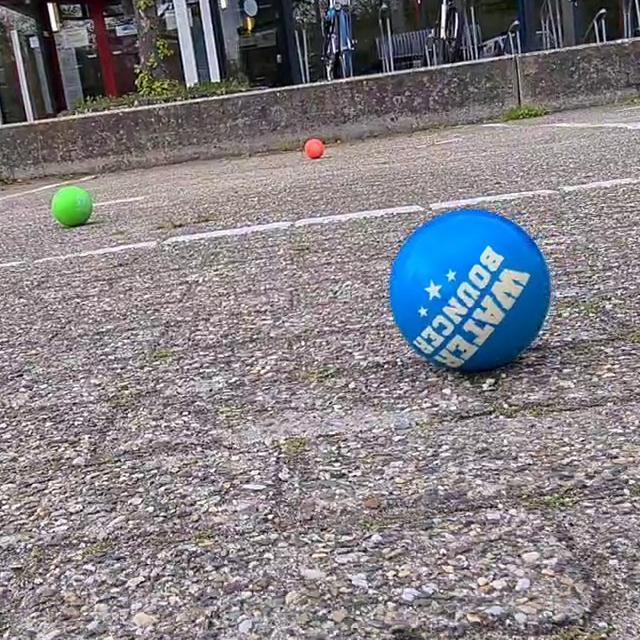ball: (48, 183, 96, 230), (302, 134, 324, 157)
